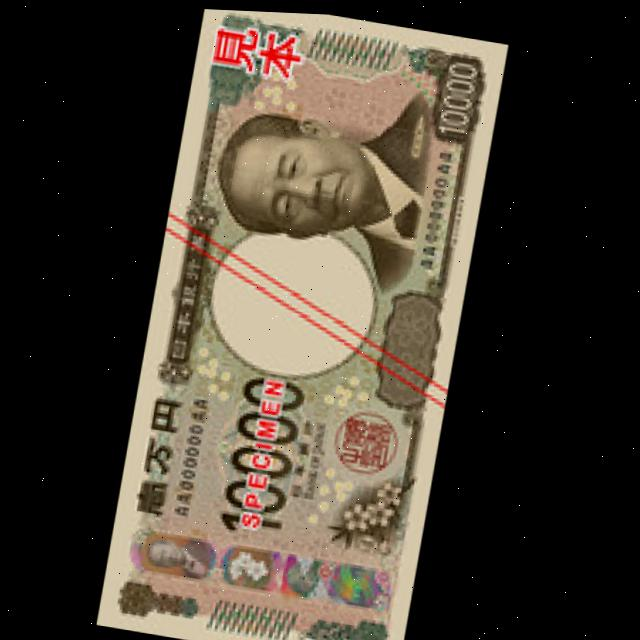banknote: (99, 4, 506, 640)
